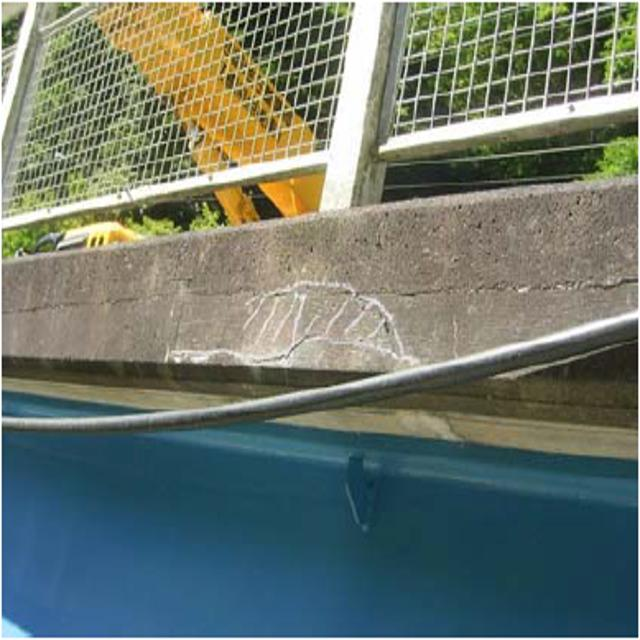crack: (158, 273, 422, 381)
